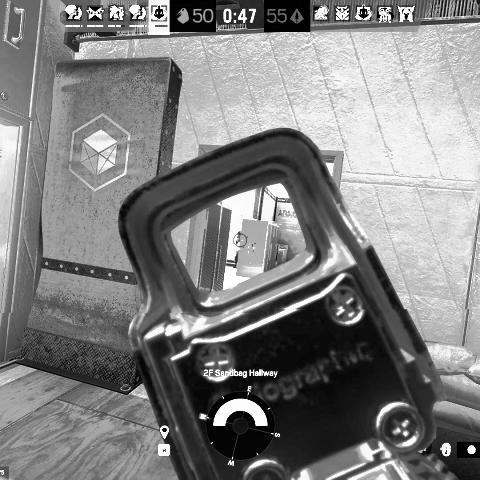Character: (233, 228, 243, 269)
Head: (238, 228, 242, 236)
